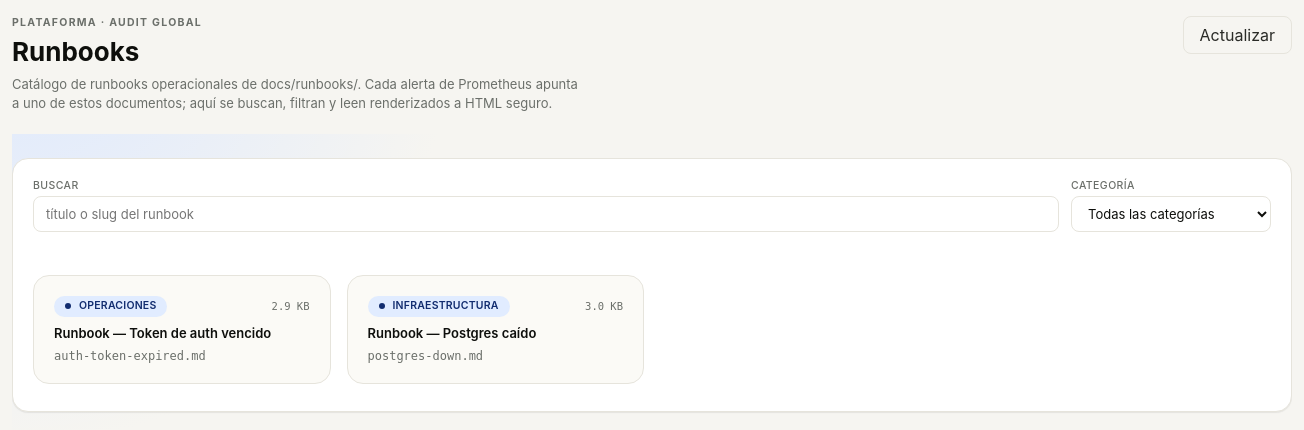
Runbooks › filters the catalogue by search text client-side
Expected: the heading "Runbook — Token de auth vencido" is shown, [54,325,310,341]
Step 1. Type "postgres" into the search field labelled "Buscar" → (546, 214), box [33,196,1059,232]
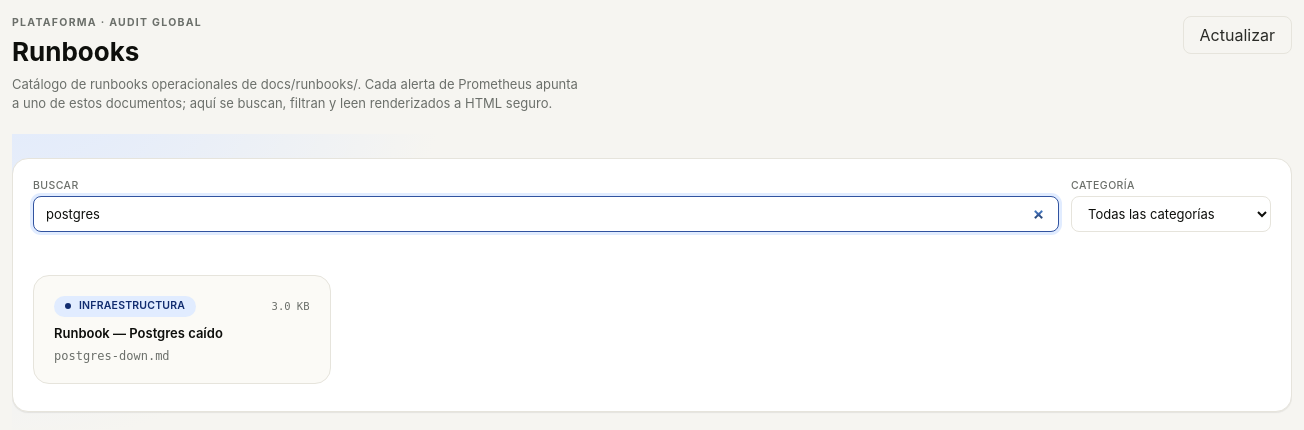
Expected: the heading "Runbook — Postgres caído" is shown, [54,325,223,341]
Now the button "Runbook — Token de auth vencido" is gone
